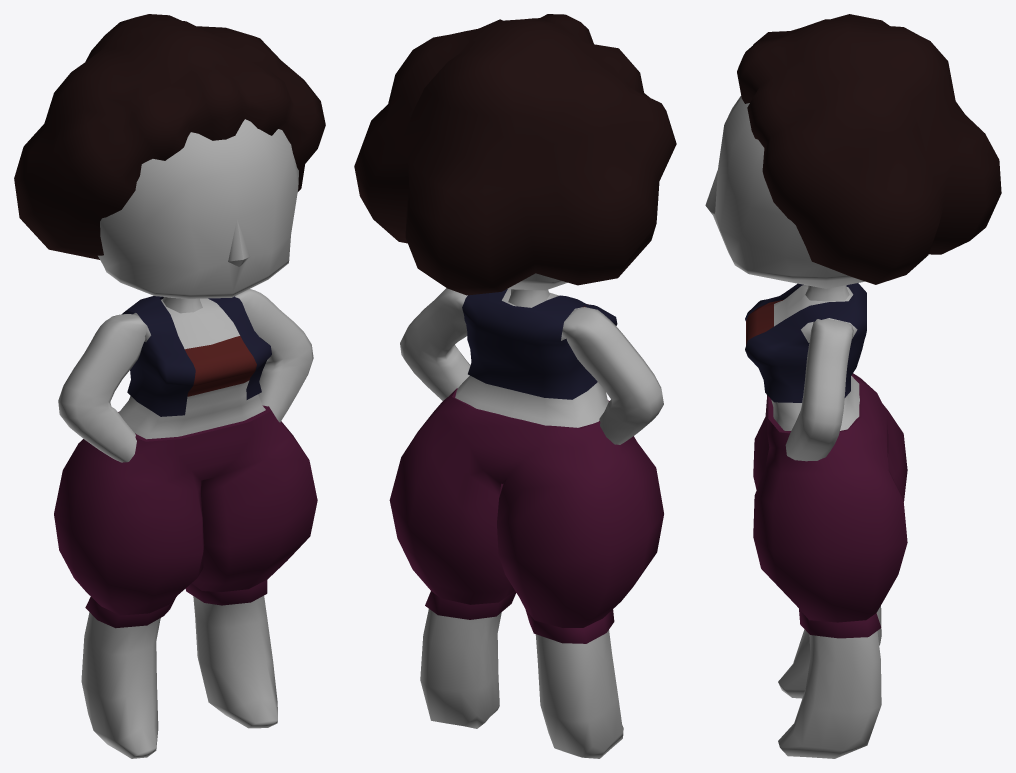
Rendered from MerchantGal.fbx.
3 views of the same model, side by side, from view 1: azimuth 30°, elevation 25°; view 2: azimuth 150°, elevation 25°; view 3: azimuth 270°, elevation 25° (orthographic). The views are drawn at different scales.
Visible parts, largest first — view 1: Merchant_BaseForm, Merchant_Pants, PoofHair, HandLeft, Merchant_Vest, Handright, Merchant_Shirt; view 2: PoofHair, Merchant_Pants, Merchant_BaseForm, Merchant_Vest, HandLeft, Handright; view 3: PoofHair, Merchant_Pants, Merchant_BaseForm, Merchant_Vest, Handright, Merchant_Shirt.
Part boxes in pixels (box(x1,y1,x2,y2)): Merchant_BaseForm: box(81, 119, 298, 758); Merchant_Pants: box(54, 405, 317, 628); PoofHair: box(14, 14, 325, 259); HandLeft: box(58, 314, 147, 462); Merchant_Vest: box(122, 296, 271, 416); Handright: box(235, 289, 313, 422); Merchant_Shirt: box(185, 336, 256, 396); PoofHair: box(354, 14, 676, 295); Merchant_Pants: box(389, 388, 663, 643); Merchant_BaseForm: box(420, 273, 623, 758); Merchant_Vest: box(462, 289, 617, 399); HandLeft: box(562, 307, 663, 444); Handright: box(400, 288, 470, 400); PoofHair: box(737, 14, 1001, 284); Merchant_Pants: box(753, 373, 907, 638); Merchant_BaseForm: box(705, 95, 881, 758); Merchant_Vest: box(745, 283, 866, 402); Handright: box(785, 318, 853, 461); Merchant_Shirt: box(746, 300, 782, 345).
Size of the model in its own units: 52.13 by 127 by 48.97.
